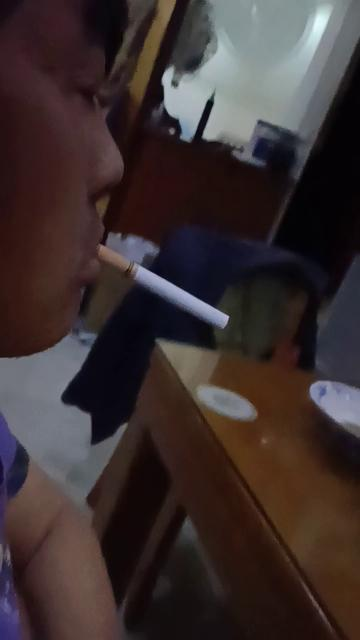Smoking: (98, 242, 232, 330)
